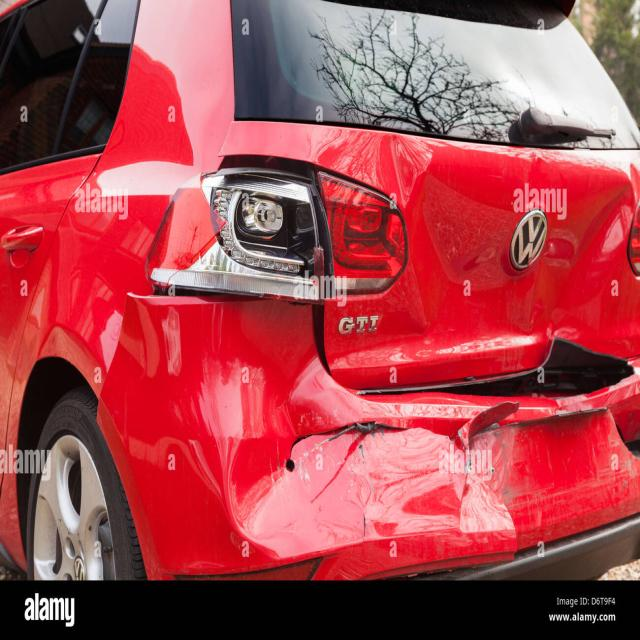crush: (97, 124, 640, 575)
